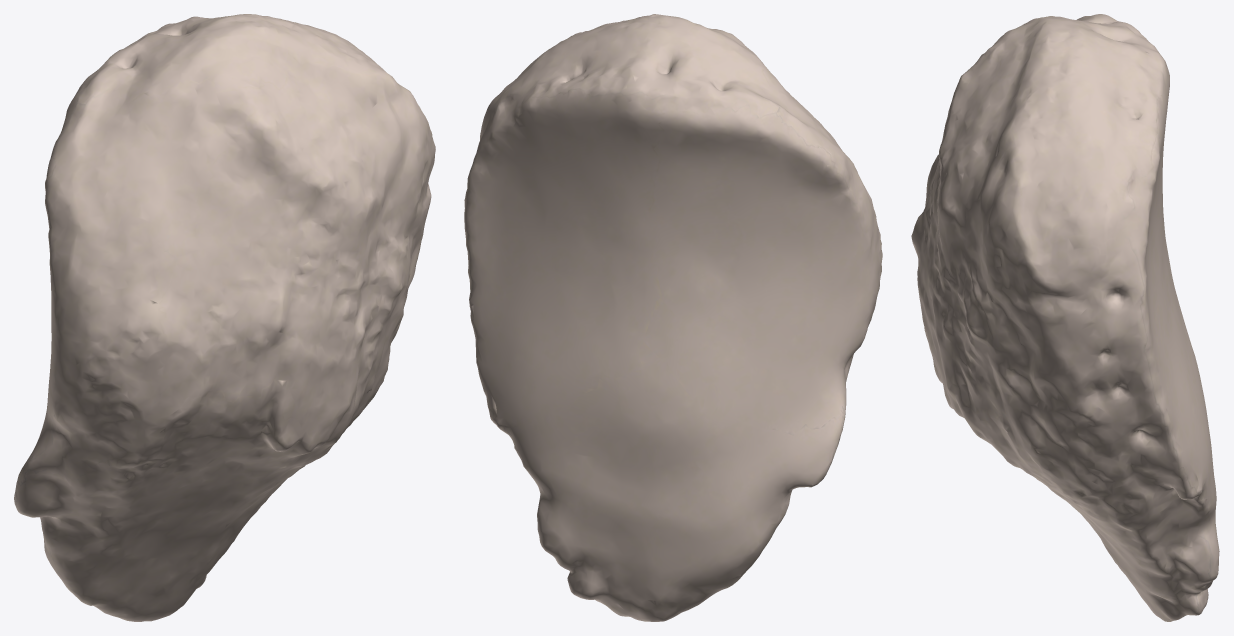
3 renders of one model, left to right at view 1: azimuth 30°, elevation 25°; view 2: azimuth 150°, elevation 25°; view 3: azimuth 270°, elevation 25°, orthographic. The views are drawn at different scales.
Parts seen in each view (by area): view 1: Patella_Katze.001; view 2: Patella_Katze.001; view 3: Patella_Katze.001.
Part boxes in pixels (bbox=[...]): Patella_Katze.001: bbox=[14, 14, 435, 621]; Patella_Katze.001: bbox=[464, 14, 882, 621]; Patella_Katze.001: bbox=[911, 14, 1219, 621].
Bounding box in the file's own units: 841 × 1270 × 594.
Materials: 1 (1 with a texture image).
